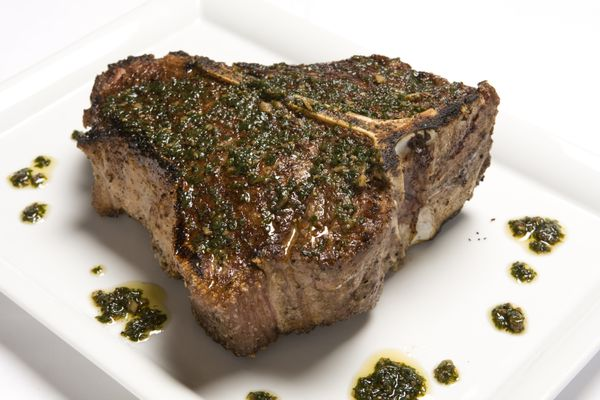sushi: (59, 51, 501, 356)
